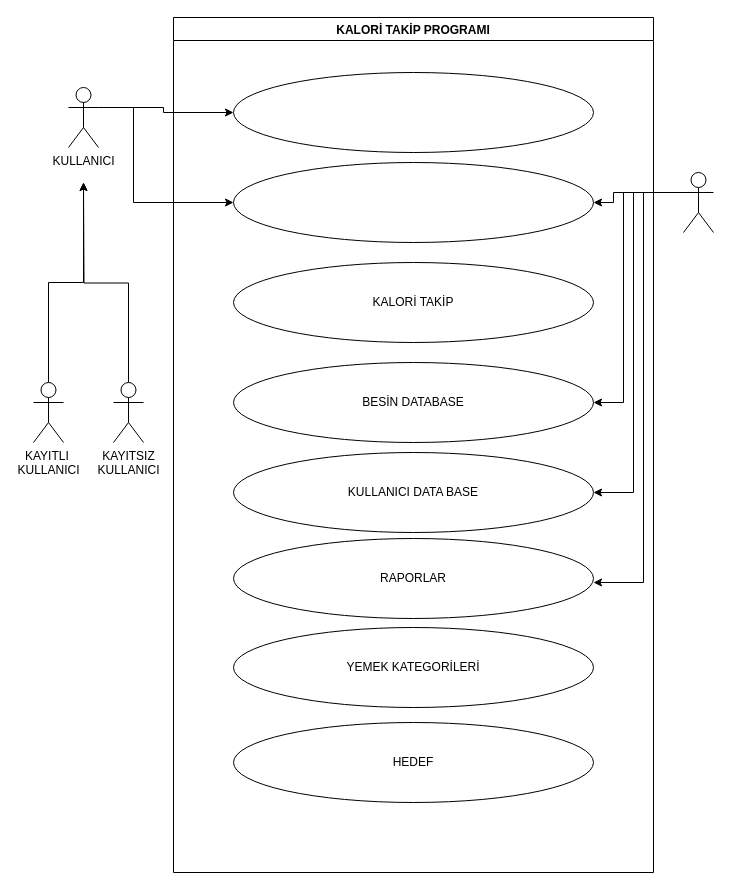
This 751x890 diagram has some shape labels left out. The shapes that lost their labels are listed below. From the top down, each one's centre as x and y in pixels, then its label:
(x=413, y=112): KAYIT EKRANI
(x=413, y=202): GİRİŞ EKRANI
(x=698, y=202): DİYETİSYEN
